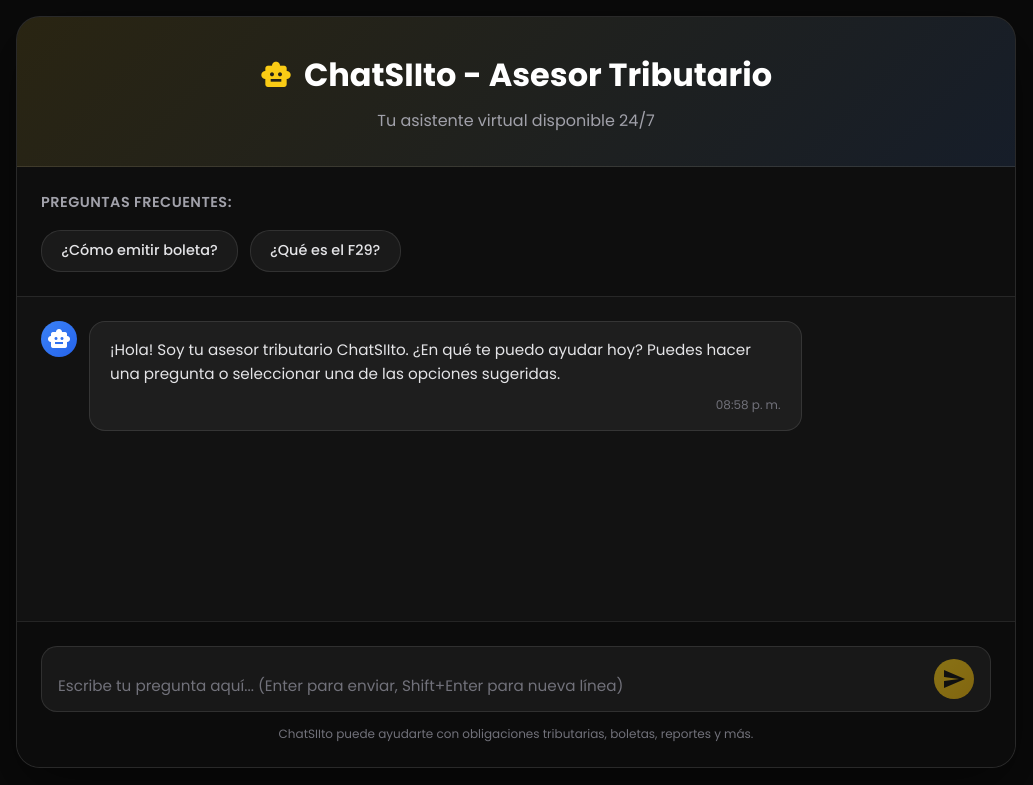
Scenario: Chatbot › Funcionalidad de búsqueda › debe mostrar respuesta genérica para palabras clave
The image size is (1033, 785).
Expected: the text "¡Hola! Soy tu asesor tributario ChatSIIto" is shown, [110,339,751,384]
Replace the text in the text box with placeholder "Escribe tu pregunta aquí" with "boleta". click: coordinates (490, 687)
box: [58,675,922,699]
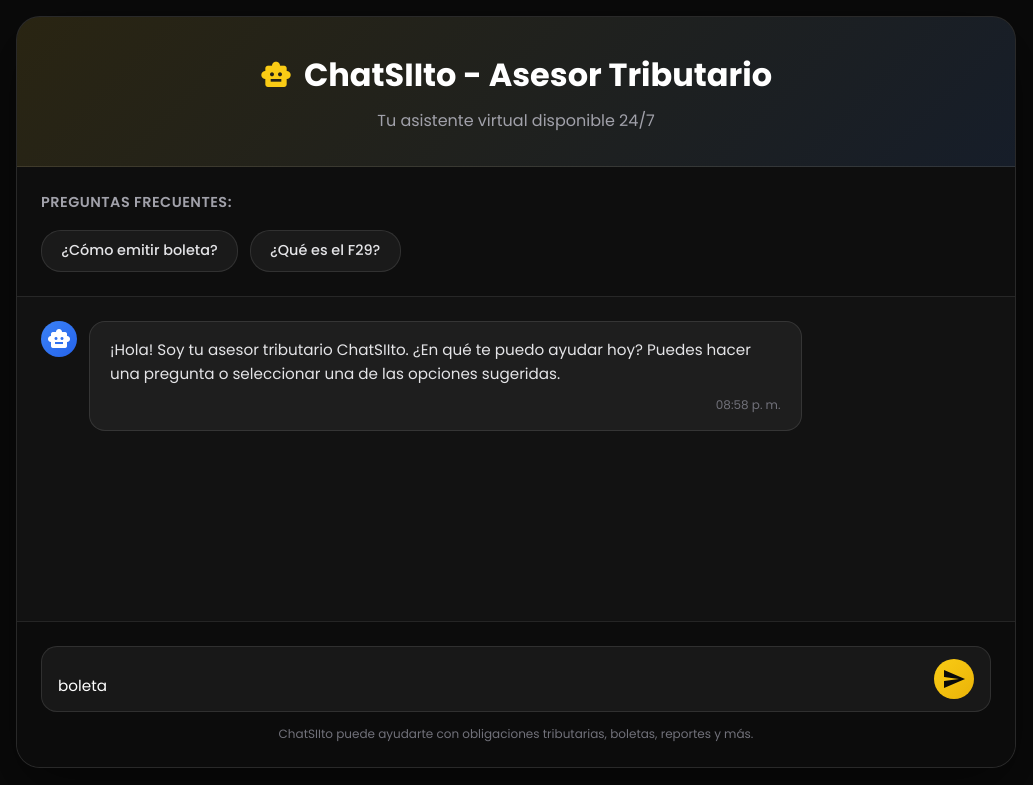
Click the button named "Enviar mensaje". click: coordinates (954, 679)
box: [934,659,974,699]
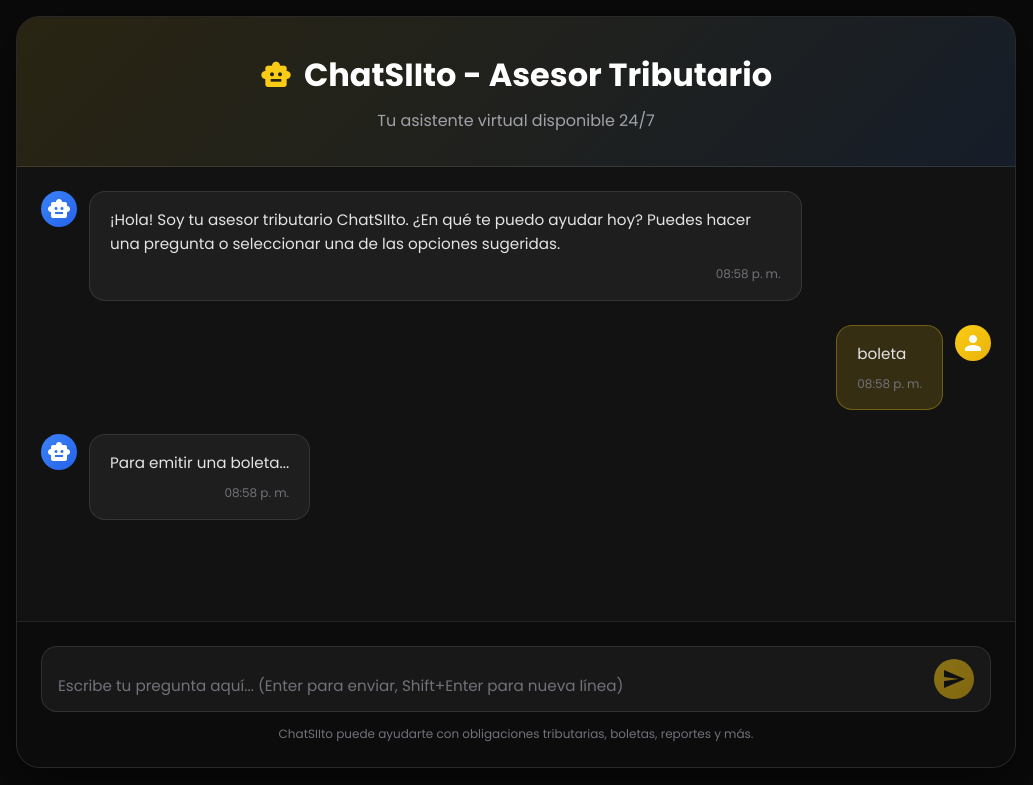
Expected: the text "Para emitir una boleta..." is shown, [110,451,289,475]
